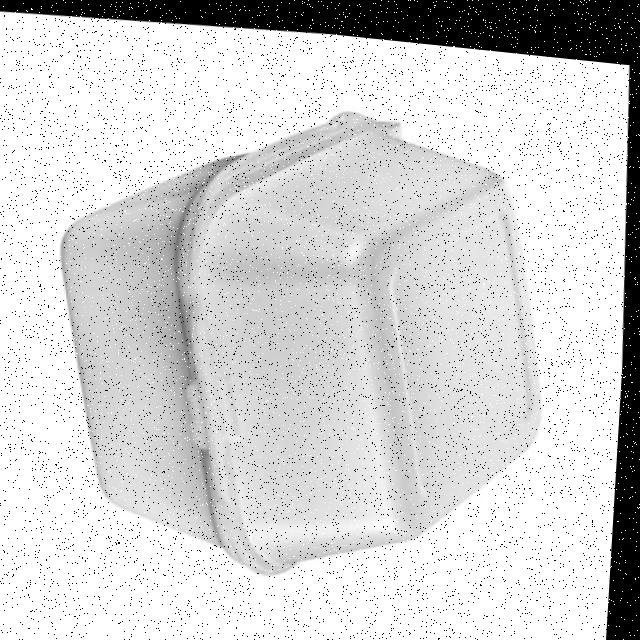foam: (27, 58, 580, 610)
